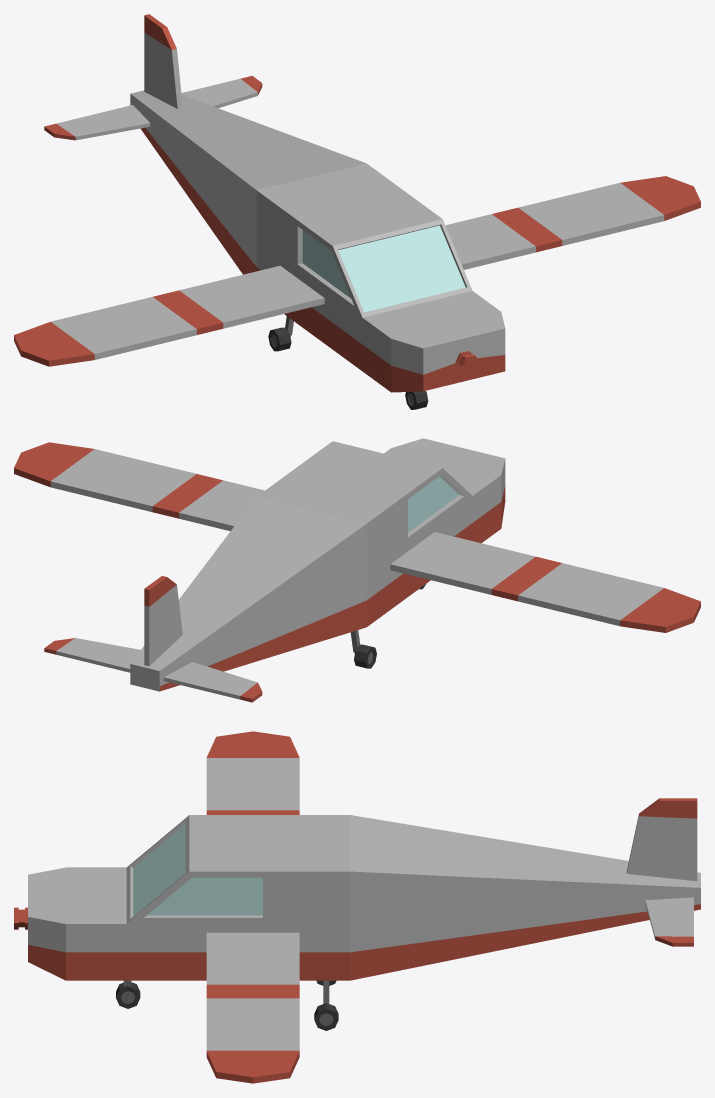
The picture shows the model from 3 angles, top to bottom: view 1: azimuth 30°, elevation 25°; view 2: azimuth 150°, elevation 25°; view 3: azimuth 270°, elevation 25°; orthographic projection. The views are drawn at different scales.
Visible parts, largest first — view 1: Plane_02; view 2: Plane_02; view 3: Plane_02.
Part boxes in pixels (x1=…): Plane_02: x1=14, y1=14, x2=700, y2=409; Plane_02: x1=14, y1=438, x2=700, y2=702; Plane_02: x1=14, y1=731, x2=700, y2=1083.
Size of the model in its own units: 927 by 258 by 778.
